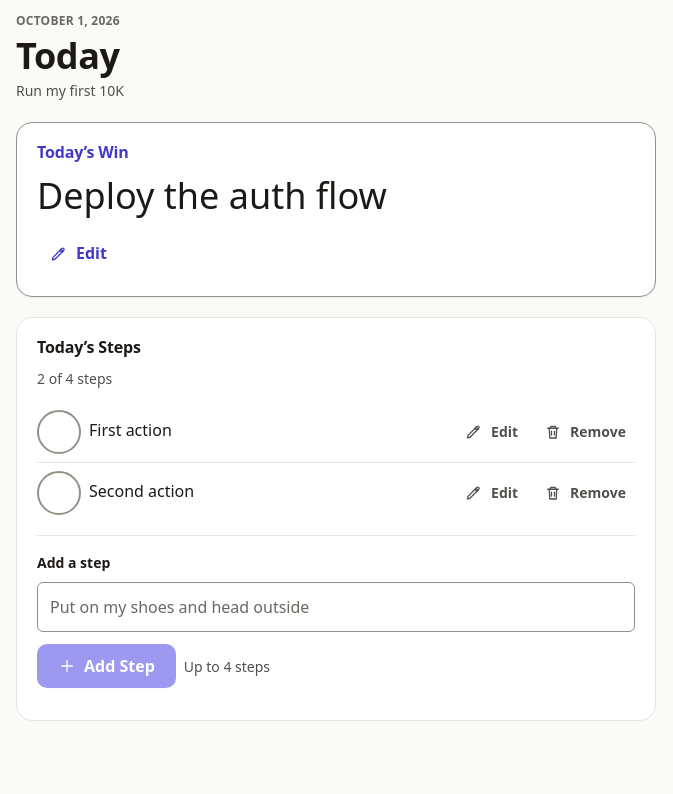
Test: Today Daily Step completion UI › acknowledges completion only when every existing step is complete
Step 1. Click the checkbox named "complete step 1" → {"x": 59, "y": 432}, box top-left (37, 410), bottom-right (81, 454)
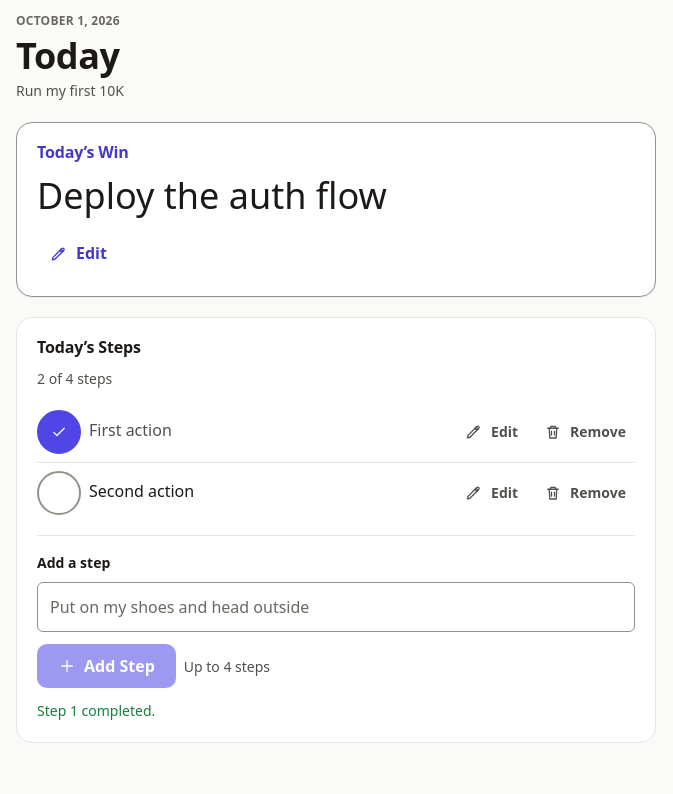
Step 2. Click the checkbox named "complete step 2" → {"x": 59, "y": 493}, box top-left (37, 471), bottom-right (81, 515)
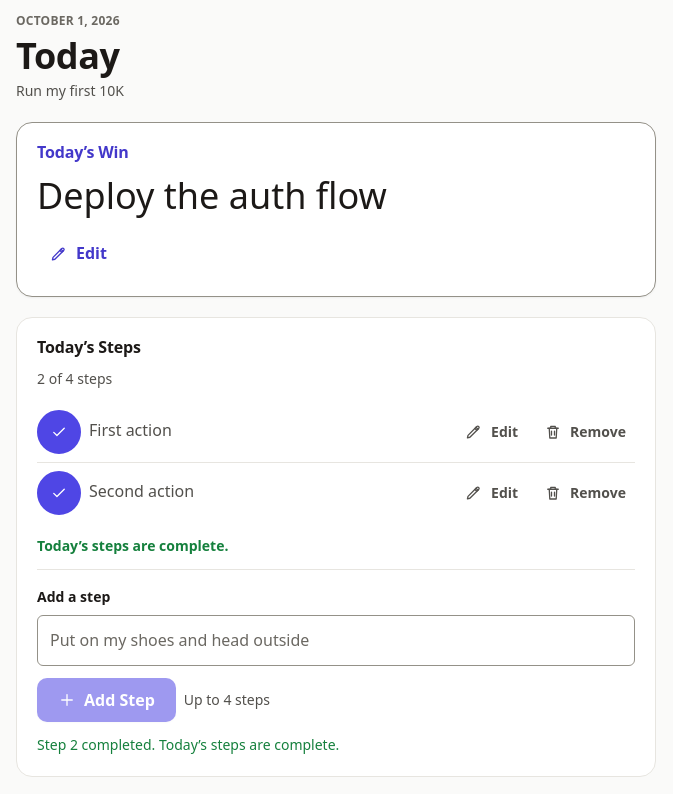
expect the text "Today’s steps are complete." is shown: met, box top-left (37, 536), bottom-right (228, 555)
